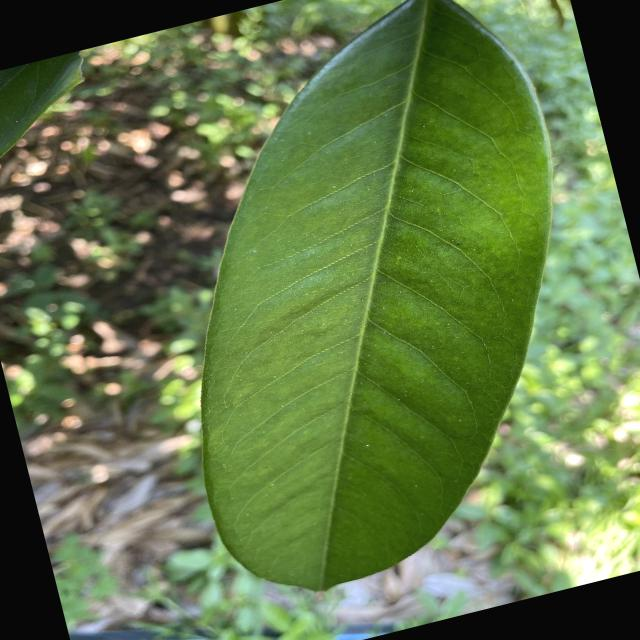No Disease: (89, 0, 639, 623)
